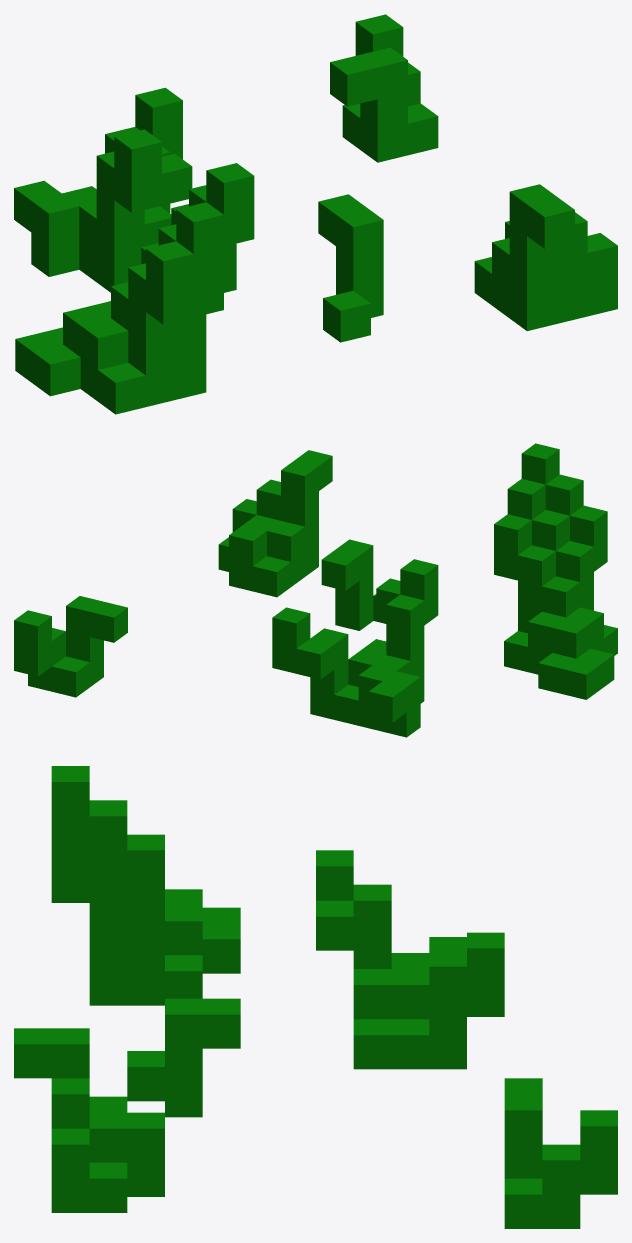
File: grass blades.obj
3 views of the same model, one above another, from view 1: azimuth 30°, elevation 25°; view 2: azimuth 150°, elevation 25°; view 3: azimuth 270°, elevation 25° (orthographic). The views are drawn at different scales.
Bounding box in the file's own units: 1.8 × 0.7 × 1.6.
Materials: 1 (1 with a texture image).
